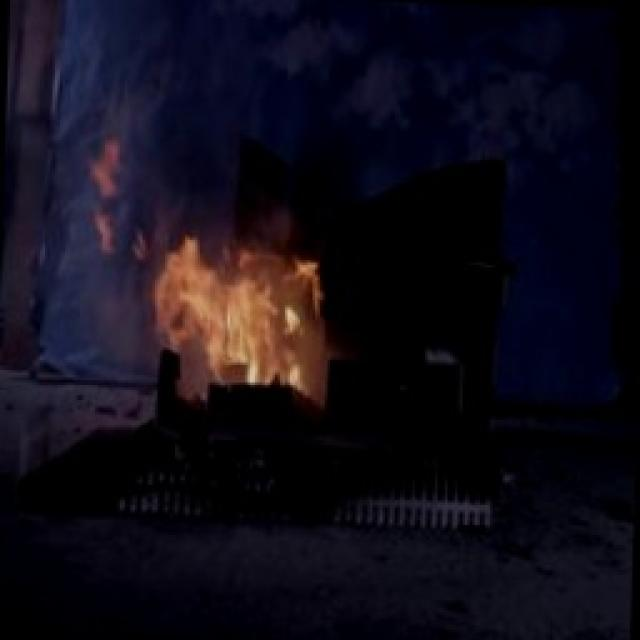fire: (131, 195, 339, 407)
